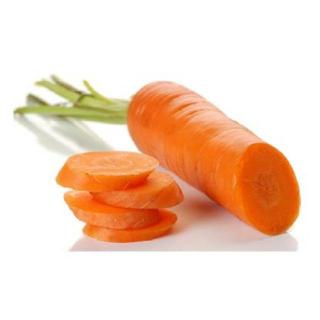carrot: (125, 80, 301, 236)
